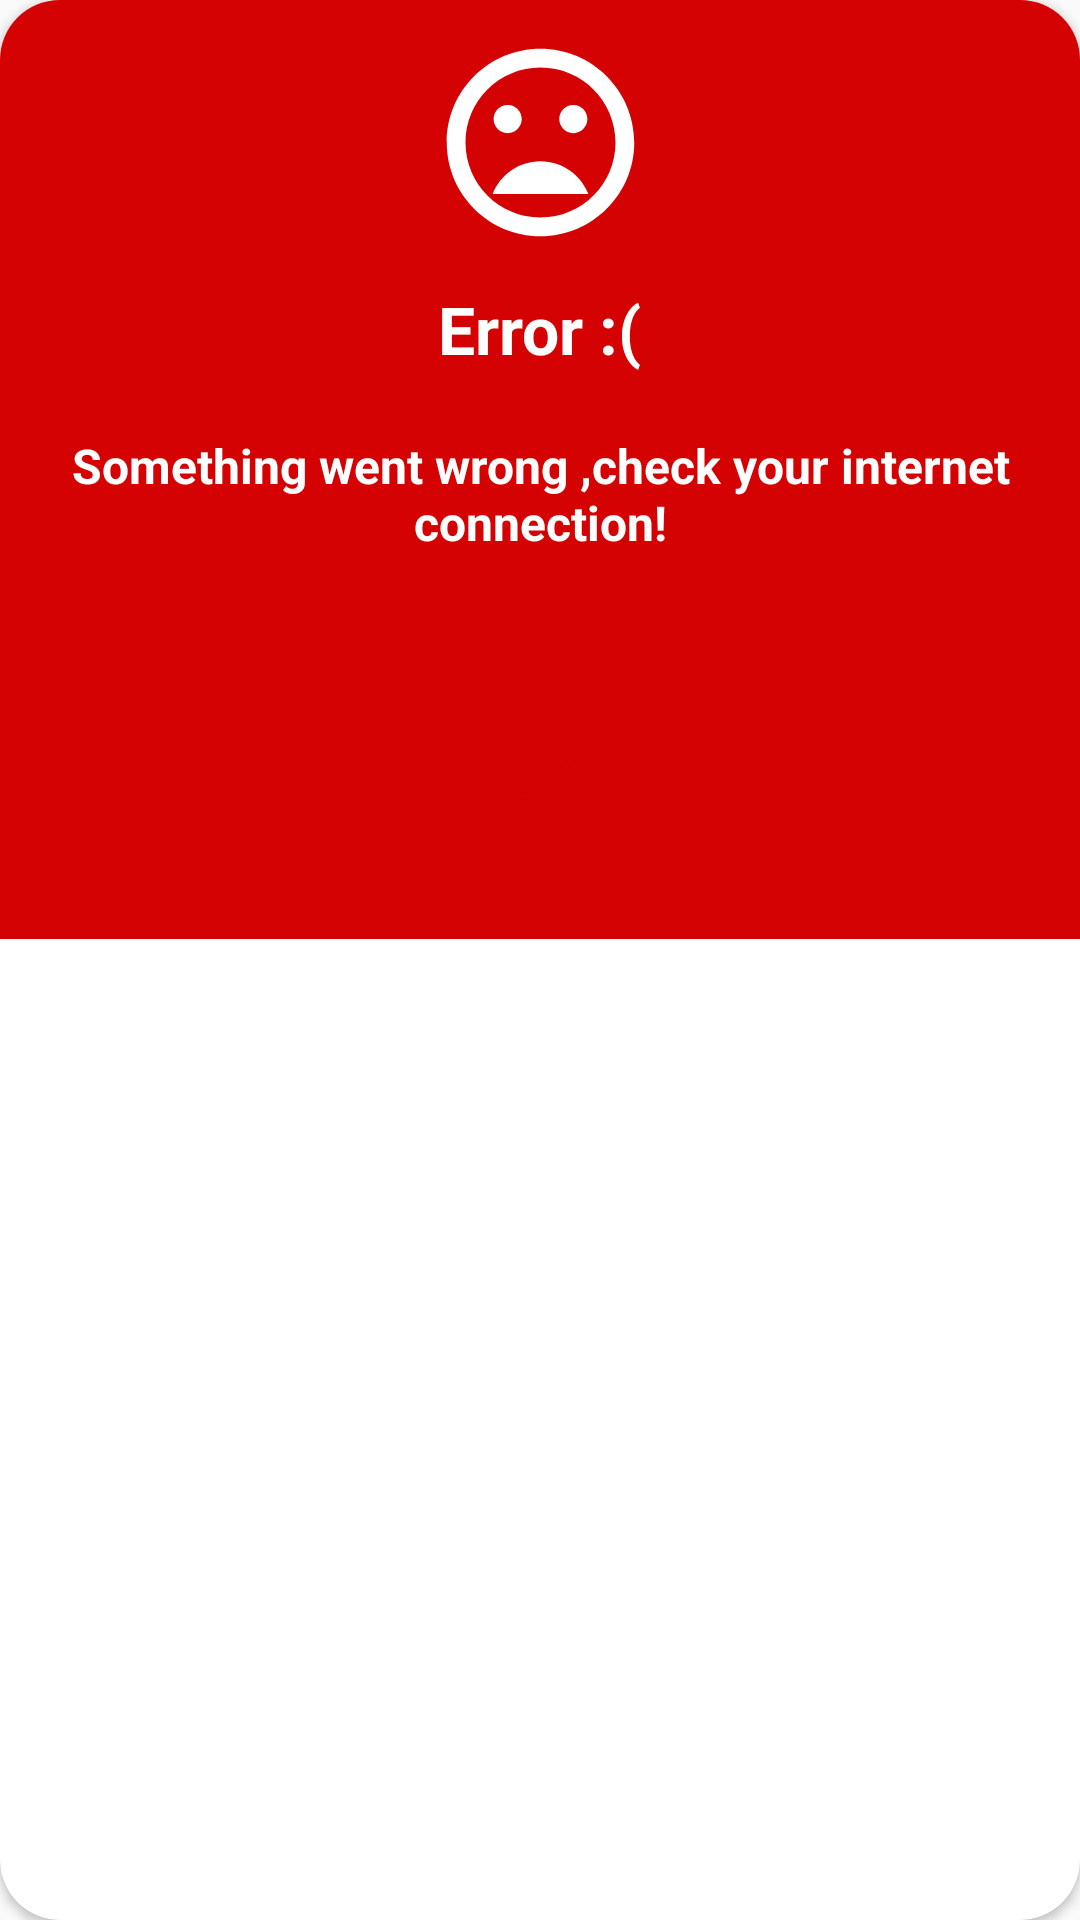

Icons on this 1080*1920 Android screen, each with the point to tap as [x,y]:
mood bad: [540,142]
